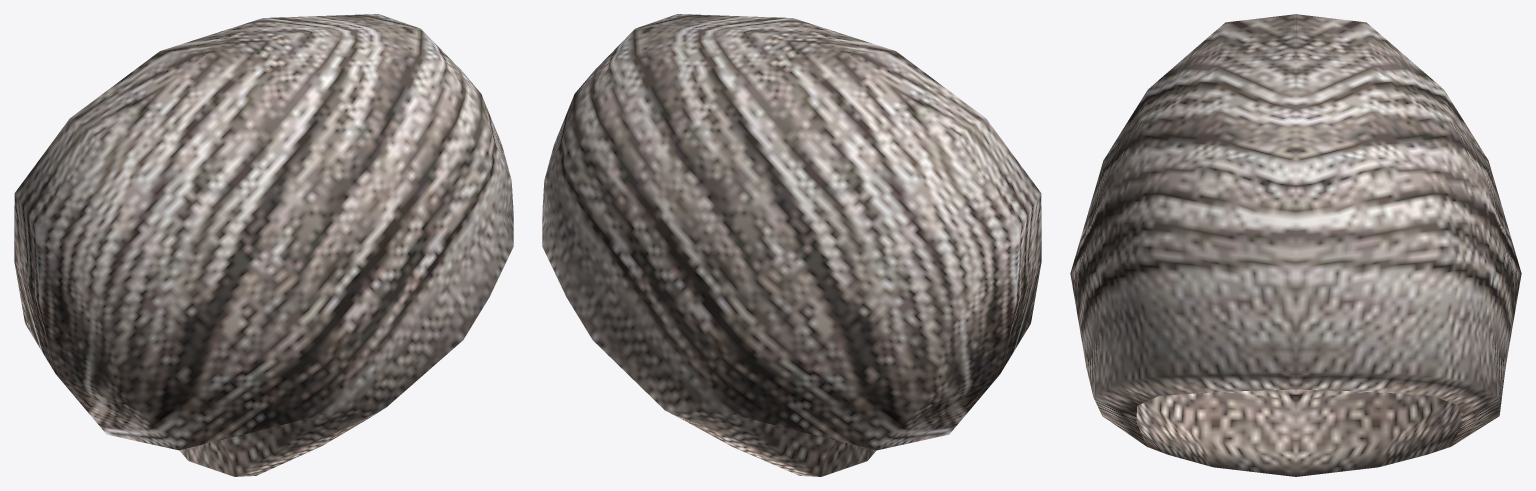
The model's file is hat_0400042.FBX.
The picture shows the model from 3 angles, left to right: view 1: azimuth 30°, elevation 25°; view 2: azimuth 150°, elevation 25°; view 3: azimuth 270°, elevation 25°; orthographic projection. The views are drawn at different scales.
Visible parts, largest first — view 1: hat_0400042; view 2: hat_0400042; view 3: hat_0400042.
Boxes of the visible parts, bbox=[...] form: hat_0400042: bbox=[14, 14, 513, 476]; hat_0400042: bbox=[542, 14, 1041, 476]; hat_0400042: bbox=[1070, 14, 1521, 476].
Size of the model in its own units: 32.97 by 28.79 by 25.58.
